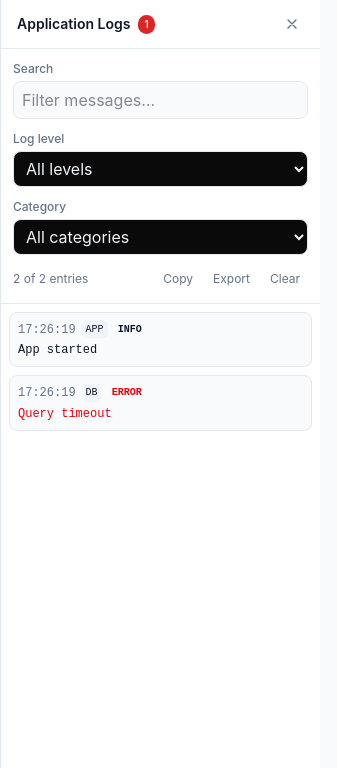
LogPanel › copies filtered logs to clipboard
This screenshot has width=337, height=768.
Click the button with test id "log-copy": (178, 279) [155,267,201,291]
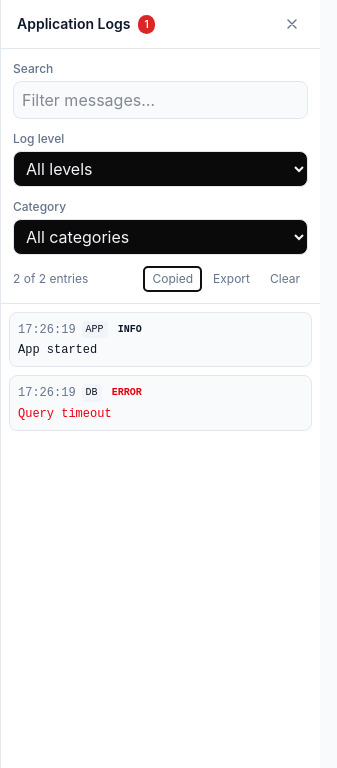
expect the button "Copied" is shown: met, box [144,267,201,291]
